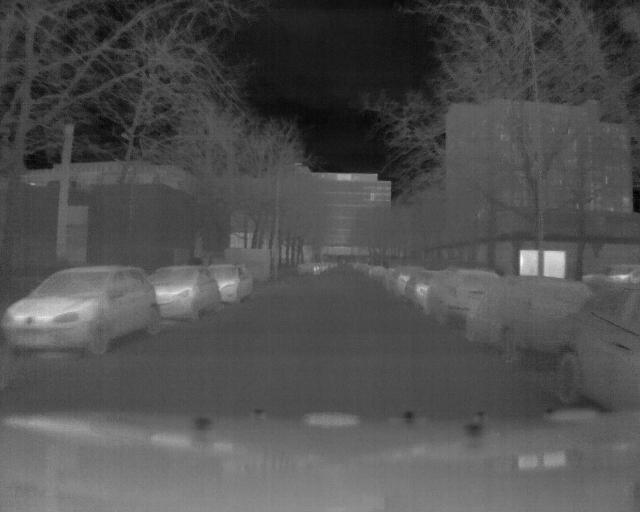car: (1, 261, 164, 359), (549, 277, 640, 411), (466, 272, 593, 365), (422, 261, 506, 328), (142, 264, 224, 322), (202, 262, 256, 304), (404, 271, 454, 309), (383, 266, 428, 296)
